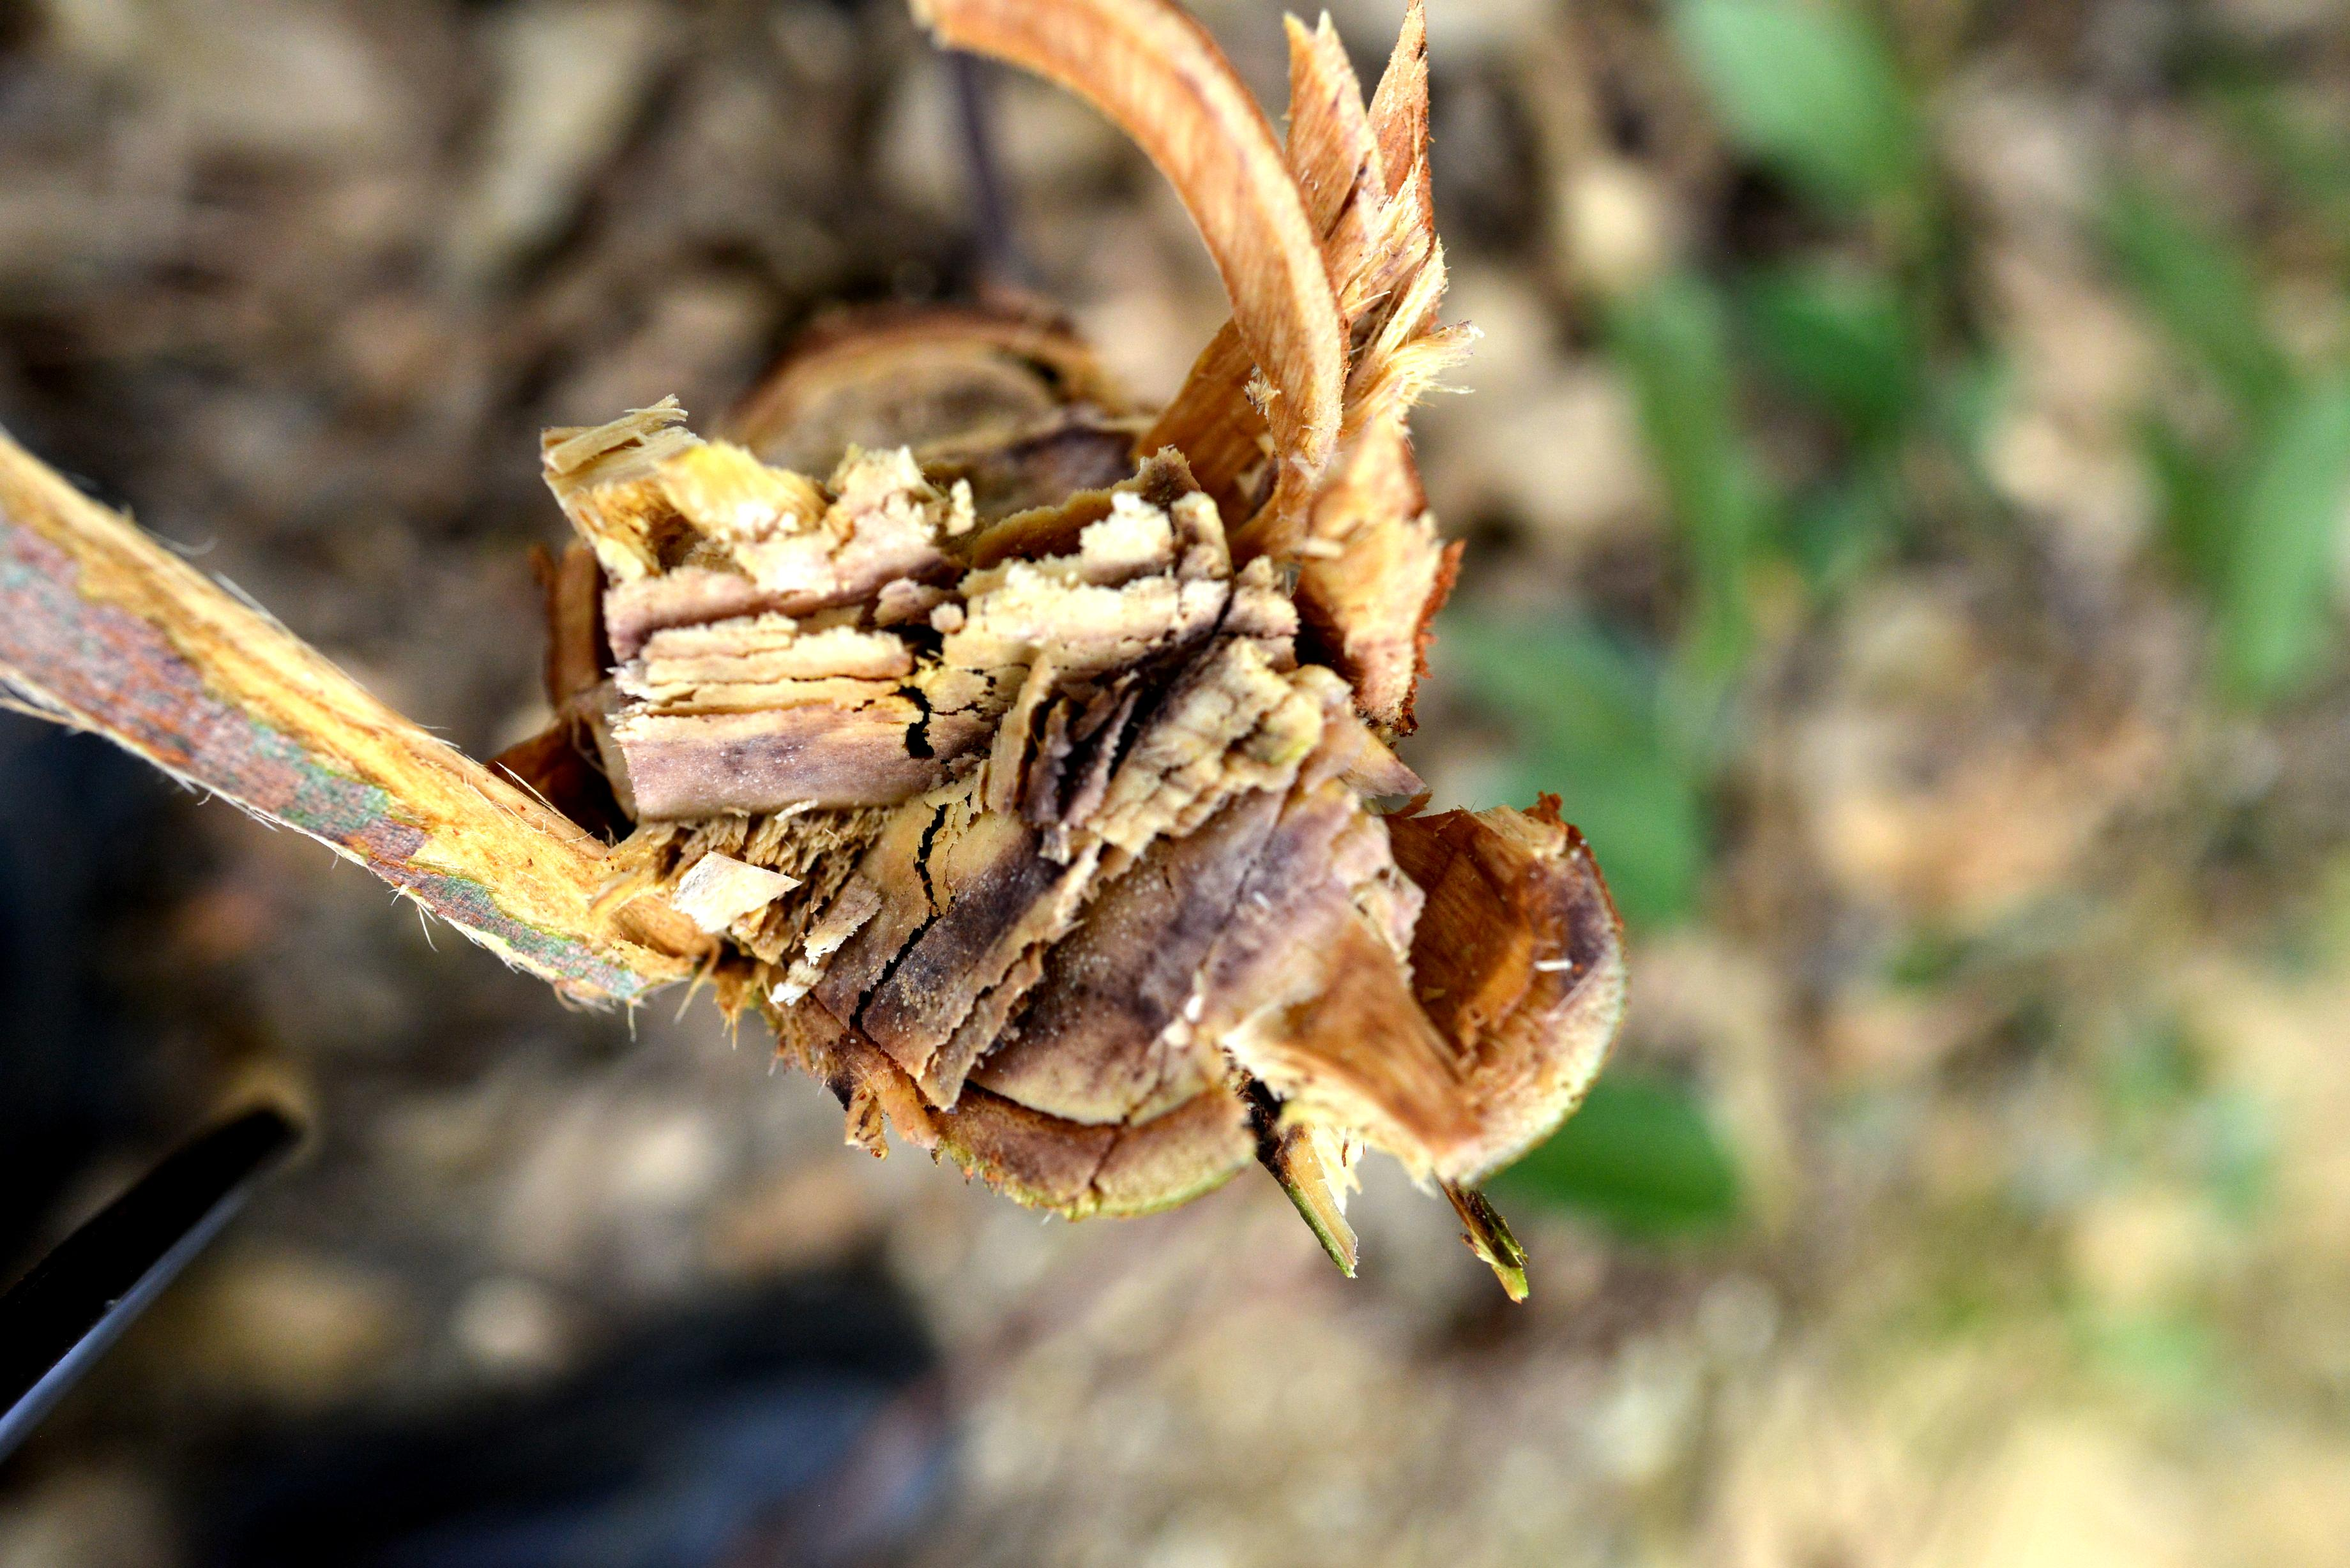Ralstonia: (824, 826, 1211, 1080), (658, 717, 819, 815)
